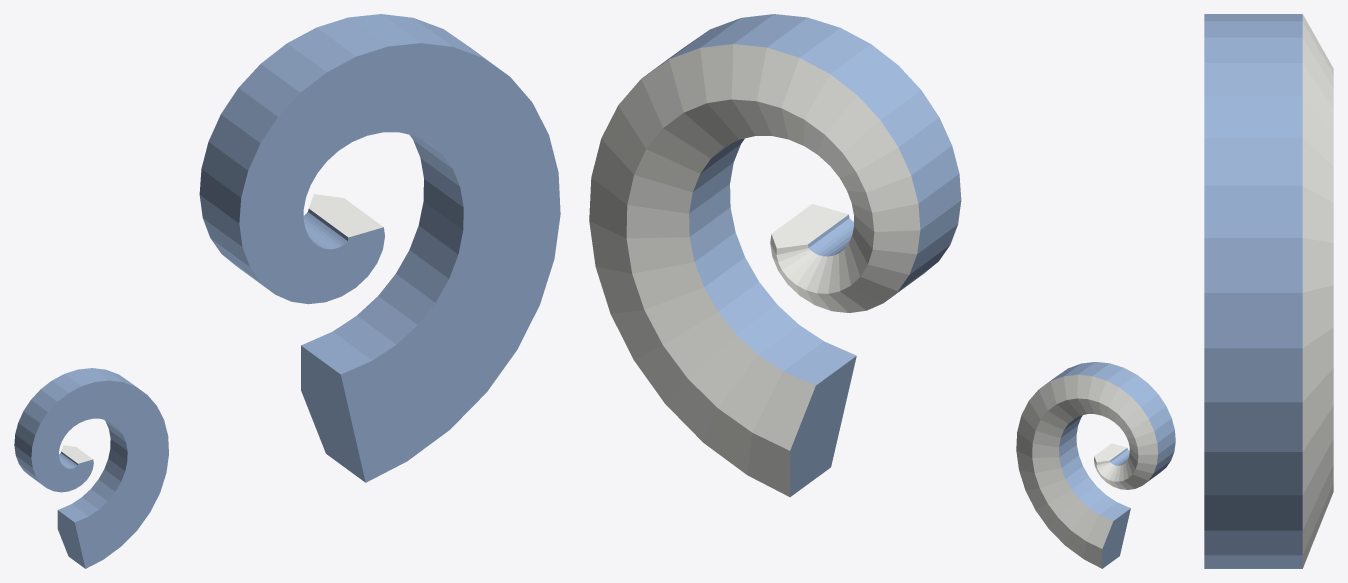
The picture shows the model from 3 angles, left to right: view 1: azimuth 30°, elevation 25°; view 2: azimuth 150°, elevation 25°; view 3: azimuth 270°, elevation 25°; orthographic projection. The views are drawn at different scales.
Visible parts, largest first — view 1: 背面补全卷纸.001; view 2: 背面补全卷纸.001; view 3: 背面补全卷纸.001.
Part boxes in pixels (x1,y1,x2,y2): 背面补全卷纸.001: (14,14,560,568); 背面补全卷纸.001: (589,14,1175,568); 背面补全卷纸.001: (1204,14,1333,568).
Size of the model in its own units: 1.32 by 1.07 by 0.2254.
